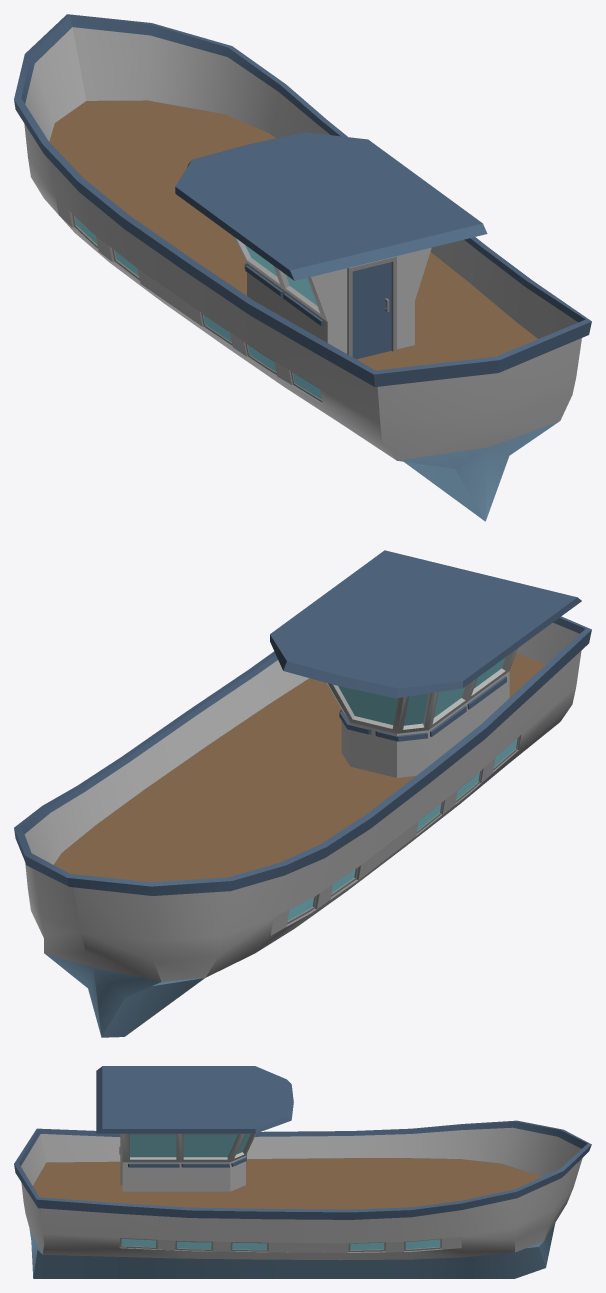
File: BigBoat.fbx
The picture shows the model from 3 angles, top to bottom: view 1: azimuth 30°, elevation 25°; view 2: azimuth 150°, elevation 25°; view 3: azimuth 270°, elevation 25°; orthographic projection. The views are drawn at different scales.
Parts seen in each view (by area): view 1: Cube.192; view 2: Cube.192; view 3: Cube.192.
Part boxes in pixels (x1,y1,x2,y2): Cube.192: (14,14,591,521); Cube.192: (14,550,591,1037); Cube.192: (14,1066,591,1278).
Bounding box in the file's own units: 616 × 544 × 1719.
